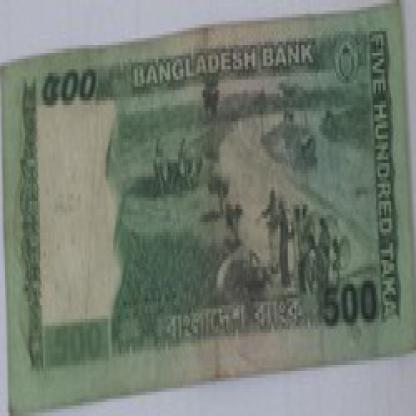500 taka: (25, 48, 111, 138)
